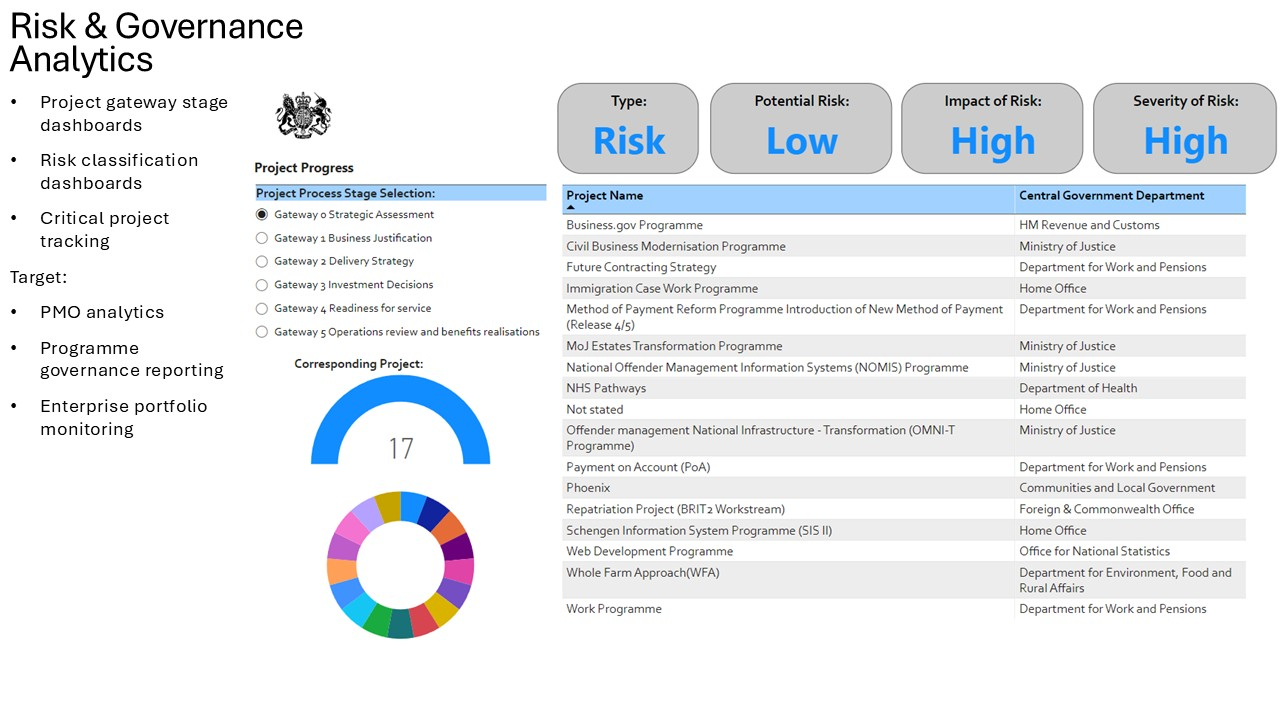

What the dashboard file says about the page in this screenshot:
{"tool":"powerbi","page":{"name":"Project Progress Stage","canvas":[1280,720],"ordinal":3},"visuals":[{"type":"group","id":"g1","title":"Group 1","box":[0,0,144,128],"z":0},{"type":"image","box":[32,0,80,96],"z":0,"group":"g1"},{"type":"textbox","box":[0,96,144,32],"z":1000,"group":"g1"},{"type":"tableEx","fields":{"Values":["Progress.Project Name","Project Register.Central Government Department"]},"box":[384.5,127.8,886.2,549.4],"z":1000},{"type":"slicer","fields":{"Values":["Sheet1.Column1"]},"box":[0,128,384,208],"z":2000},{"type":"donutChart","title":"Corresponding Project","fields":{"Y":["CountNonNull(Progress.Project Name)"],"Category":["Progress.Project Name"]},"box":[3.5,483.2,375.2,237],"z":3000},{"type":"gauge","title":"Corresponding Project:","fields":{"Y":["CountNonNull(Progress.Project Name)"],"MaxValue":["Progress.OCGFilterGateway"]},"box":[55.8,343.8,271.8,139.4],"z":4000},{"type":"card","title":"Type:","fields":{"Values":["Min(Risk Issue Register.Column2)"]},"box":[384.5,8.1,174.2,111.5],"z":5000},{"type":"card","title":"Potential Risk:","fields":{"Values":["Min(Risk Issue Register.Column4)"]},"box":[572.6,8.1,224.2,111.5],"z":6000},{"type":"card","title":"Impact of Risk:","fields":{"Values":["Min(Risk Issue Register.Column5)"]},"box":[808.4,8.1,224.2,111.5],"z":7000},{"type":"card","title":"Severity of Risk:","fields":{"Values":["Min(Risk Issue Register.Column6)"]},"box":[1044.2,8.1,226.5,111.5],"z":8000}]}

Visuals, with their boxes in screenshot pixels (x1, y1, x2, y2), scaled from the page's 1280x720 canvas onto the 1280x720 screenshot:
"Group 1" group: <region>0, 0, 144, 128</region>
image: <region>32, 0, 112, 96</region>
textbox: <region>0, 96, 144, 128</region>
tableEx - Progress.Project Name x Project Register.Central Government Department: <region>384, 128, 1271, 677</region>
slicer - Sheet1.Column1: <region>0, 128, 384, 336</region>
"Corresponding Project" donutChart: <region>4, 483, 379, 719</region>
"Corresponding Project:" gauge: <region>56, 344, 328, 483</region>
"Type:" card: <region>384, 8, 559, 120</region>
"Potential Risk:" card: <region>573, 8, 797, 120</region>
"Impact of Risk:" card: <region>808, 8, 1033, 120</region>
"Severity of Risk:" card: <region>1044, 8, 1271, 120</region>
